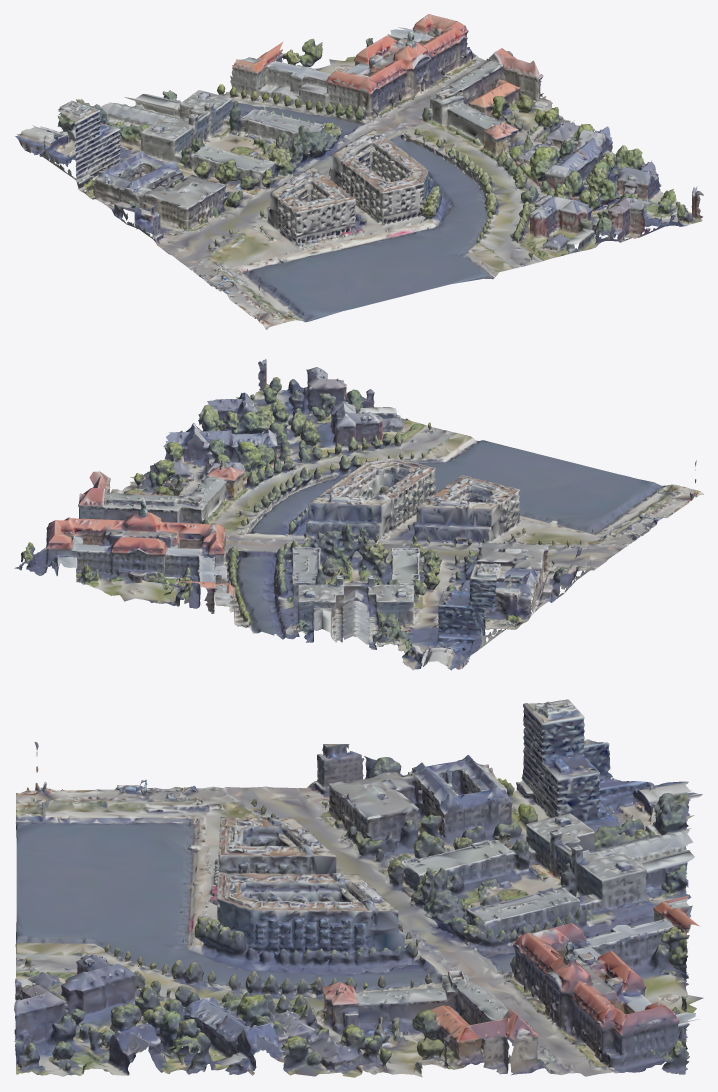
File: surface-detail-3894_58207.glb
3 renders of one model, top to bottom at view 1: azimuth 30°, elevation 25°; view 2: azimuth 150°, elevation 25°; view 3: azimuth 270°, elevation 25°, orthographic. The views are drawn at different scales.
Visible parts, largest first — view 1: world; view 2: world; view 3: world.
Part boxes in pixels (box(x1,y1,x2,y2)): world: box(15, 14, 703, 329); world: box(14, 358, 703, 670); world: box(14, 699, 703, 1077).
Bounding box in the file's own units: 367 × 61.35 × 371.
